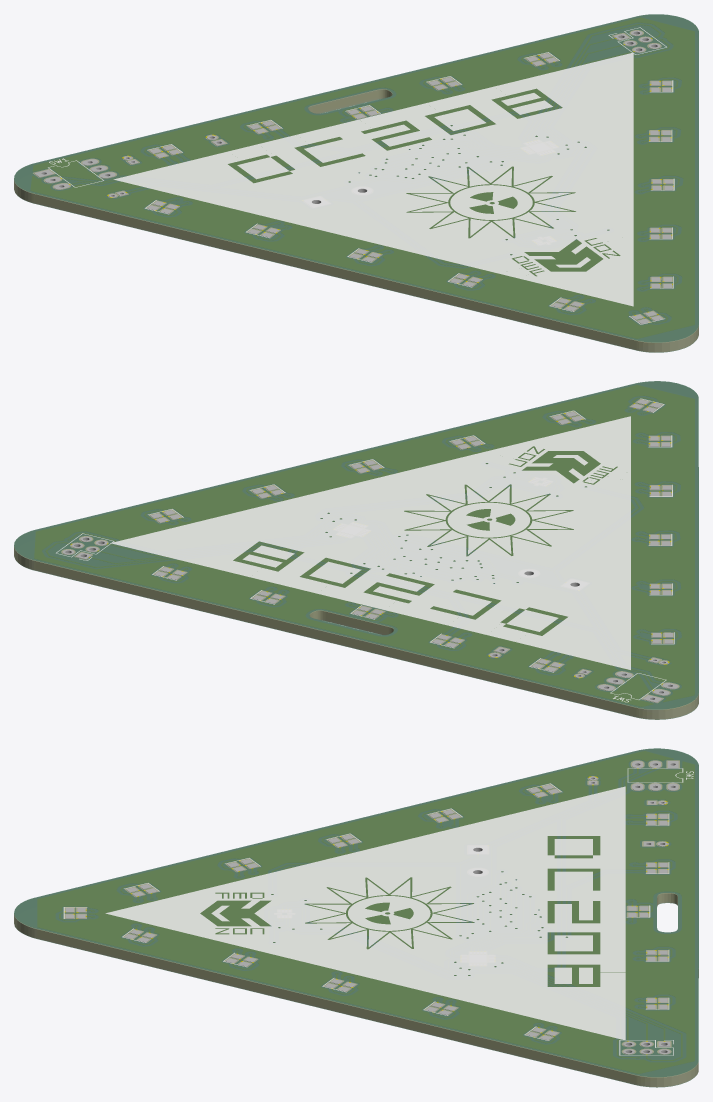
Rendered from dc208-geiger-badge.glb.
3 renders of one model, top to bottom at view 1: azimuth 30°, elevation 25°; view 2: azimuth 150°, elevation 25°; view 3: azimuth 270°, elevation 25°, orthographic.
Visible parts, largest first — view 1: =>[0:1:1:7], =>[0:1:1:5], =>[0:1:1:2], =>[0:1:1:9]; view 2: =>[0:1:1:7], =>[0:1:1:5], =>[0:1:1:2], =>[0:1:1:9]; view 3: =>[0:1:1:7], =>[0:1:1:5], =>[0:1:1:2], =>[0:1:1:9].
Boxes of the visible parts, box(x1,y1,x2,y2) form: =>[0:1:1:7]: box(14, 14, 698, 352); =>[0:1:1:5]: box(48, 27, 674, 324); =>[0:1:1:2]: box(31, 18, 694, 338); =>[0:1:1:9]: box(14, 15, 698, 352); =>[0:1:1:7]: box(14, 381, 698, 719); =>[0:1:1:5]: box(56, 398, 674, 702); =>[0:1:1:2]: box(35, 385, 694, 706); =>[0:1:1:9]: box(14, 382, 698, 719); =>[0:1:1:7]: box(14, 748, 698, 1087); =>[0:1:1:5]: box(63, 768, 693, 1055); =>[0:1:1:2]: box(38, 751, 694, 1073); =>[0:1:1:9]: box(14, 749, 698, 1087).
Bounding box in the file's own units: 0.1117 × 0.00166 × 0.0983.
4 materials, 4 textured.
